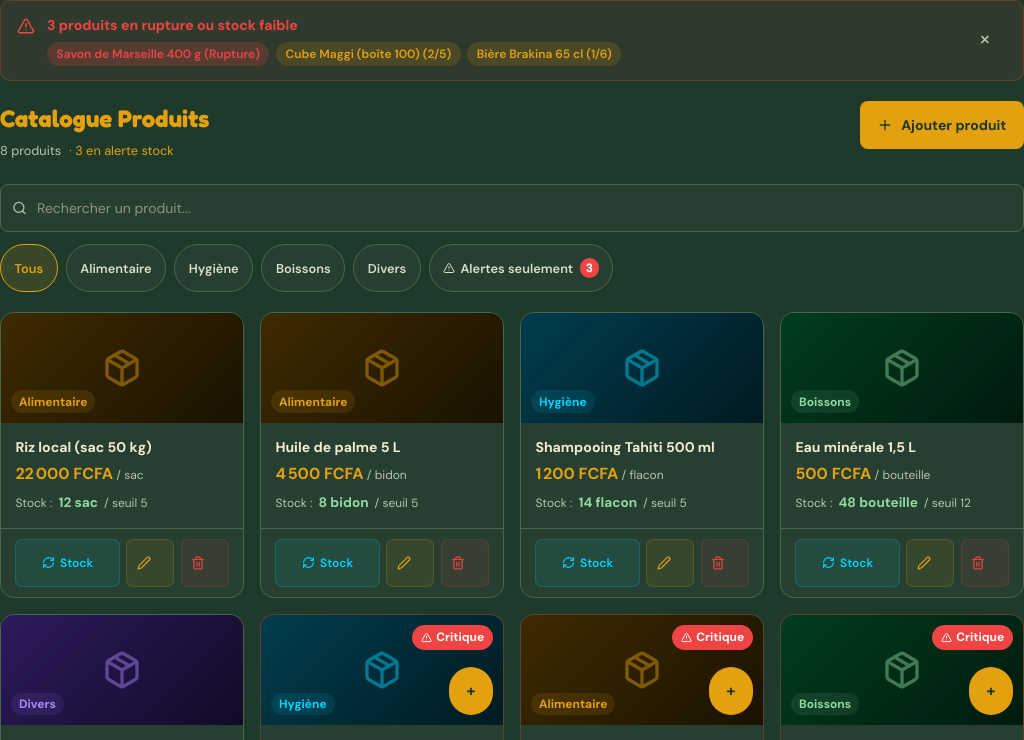
Scenario: ProduitsPage › 21 — clic × sur la bannière la ferme
The width and height of the screenshot is (1024, 740).
Expected: the text "3 produits en rupture ou stock faible" is shown, [47,16,298,34]
Step 1. Click the button "×" → {"x": 985, "y": 39}, box [963,15,1007,63]
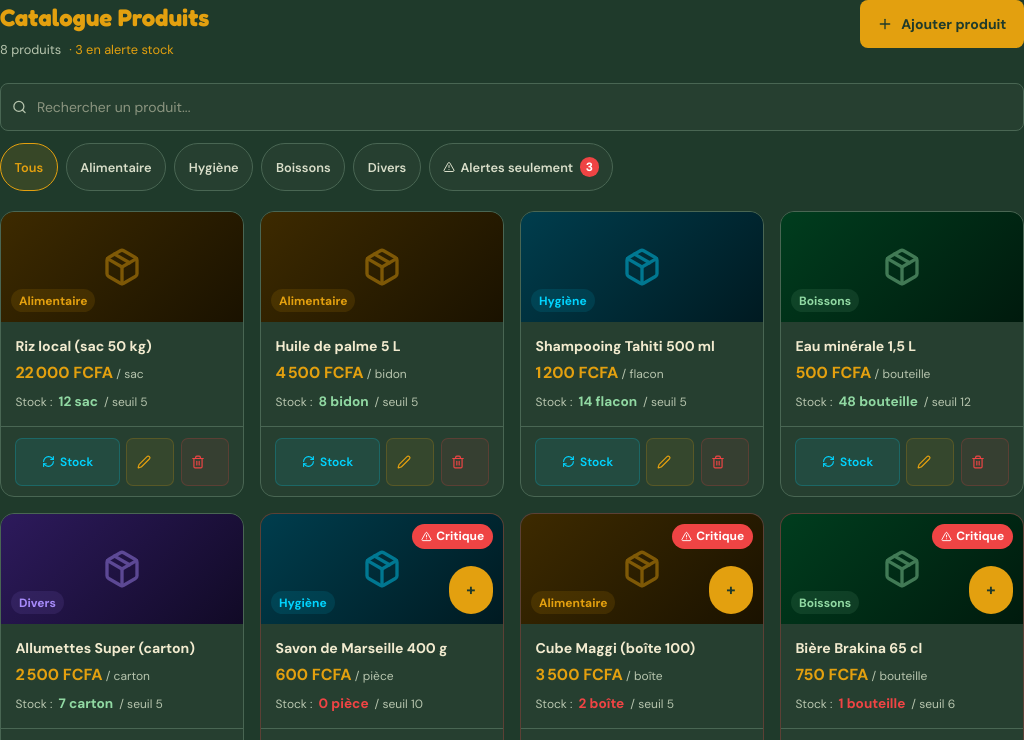
Expected: the text "rupture ou stock faible" is gone
